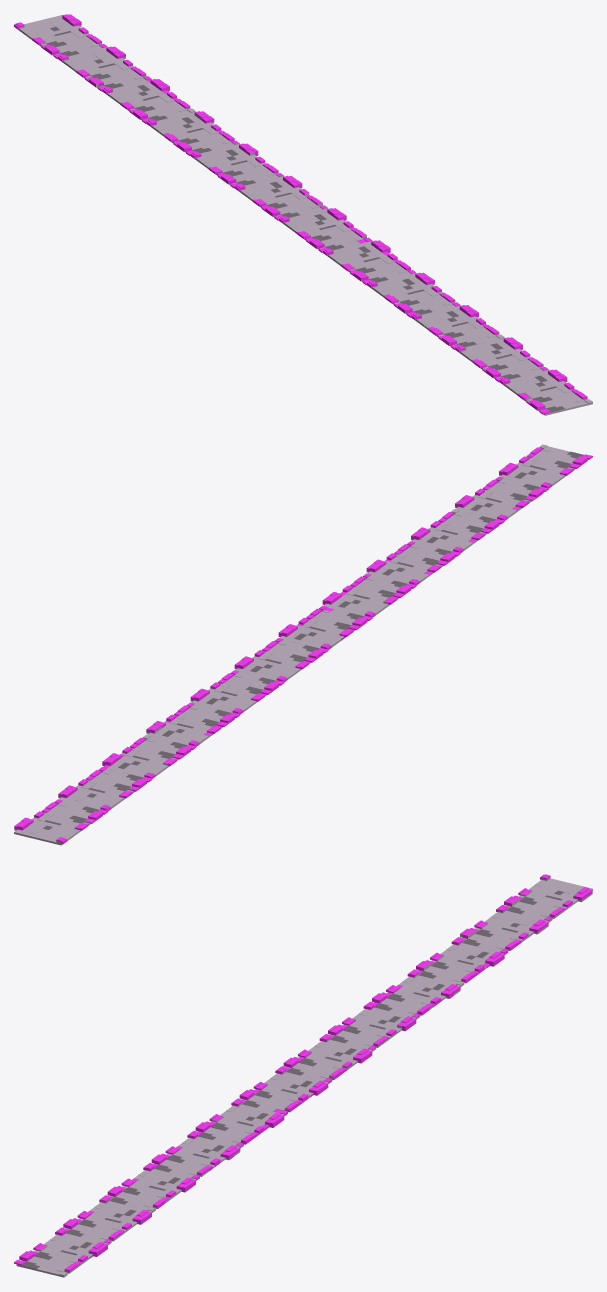
Rendered from floor.glb.
3 renders of one model, top to bottom at view 1: azimuth 30°, elevation 25°; view 2: azimuth 150°, elevation 25°; view 3: azimuth 330°, elevation 25°, orthographic.
Parts seen in each view (by area): view 1: yuka; view 2: yuka; view 3: yuka.
Part boxes in pixels (left/top/right/bottom): yuka: left=14, top=14, right=592, bottom=415; yuka: left=14, top=444, right=592, bottom=845; yuka: left=14, top=874, right=592, bottom=1277.
Size of the model in its own units: 62.17 by 5.7 by 1061.
1 material, 1 textured.
